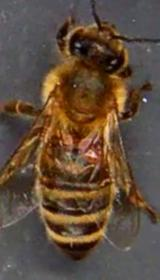varroa_mite: (80, 140, 102, 165)
